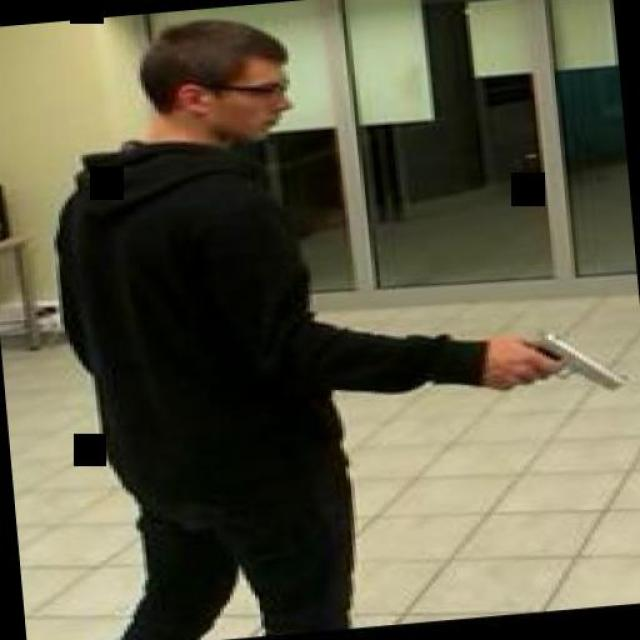gun: (498, 316, 630, 404)
